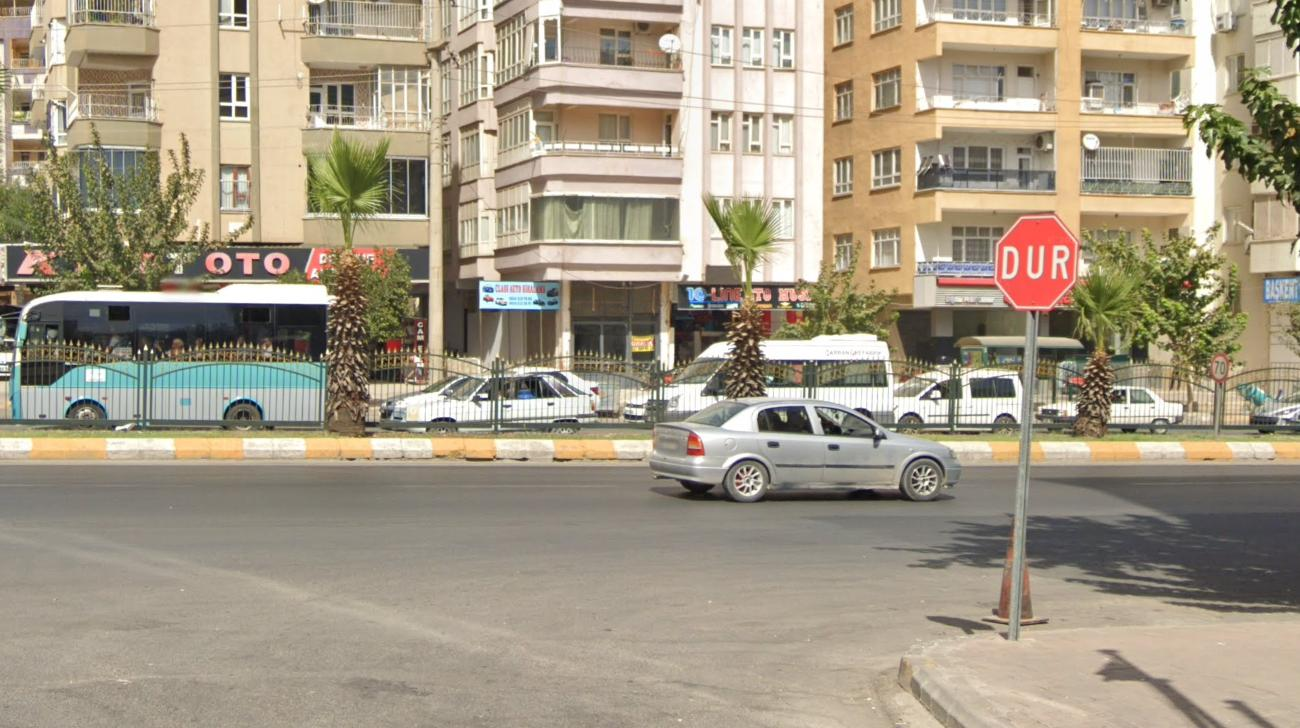stop: (990, 206, 1086, 318)
